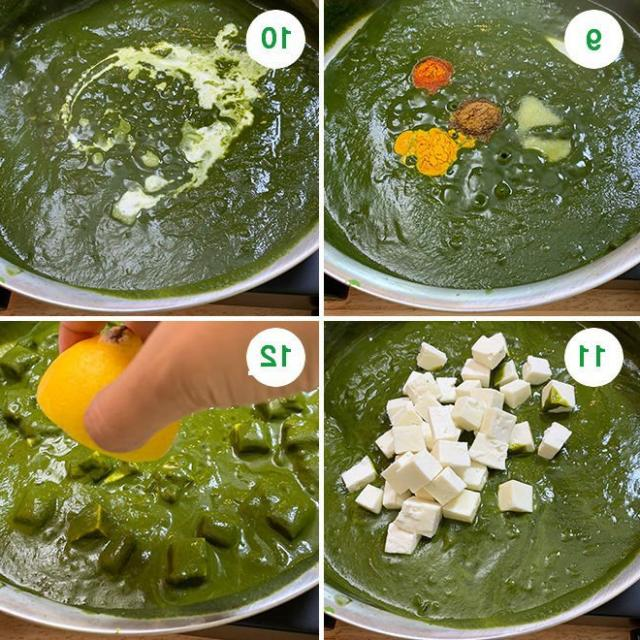Palak Paneer: (0, 319, 318, 640)
